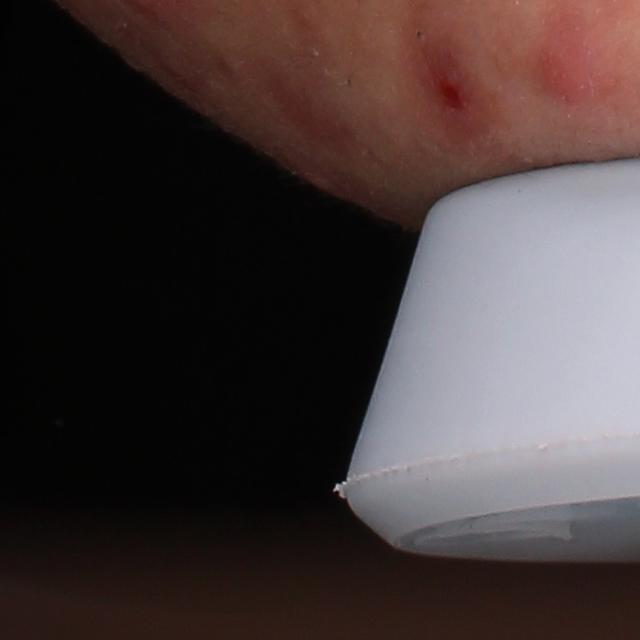papule: (527, 11, 590, 115), (421, 47, 475, 124)
